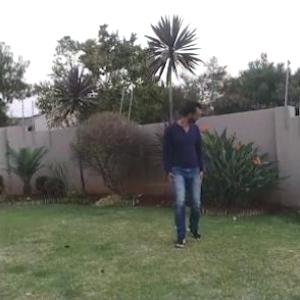follow: (161, 95, 211, 251)
